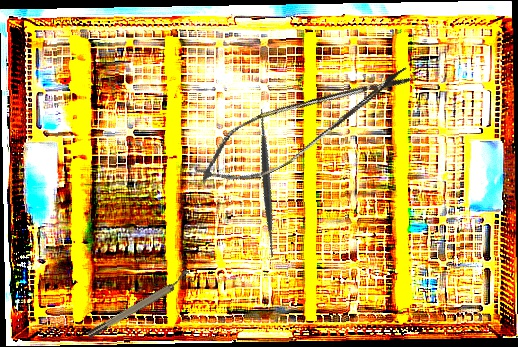Fixation Ring: (83, 268, 195, 341)
Micro Scissor: (185, 45, 422, 204)
Spatula Surgical: (186, 102, 348, 264)
